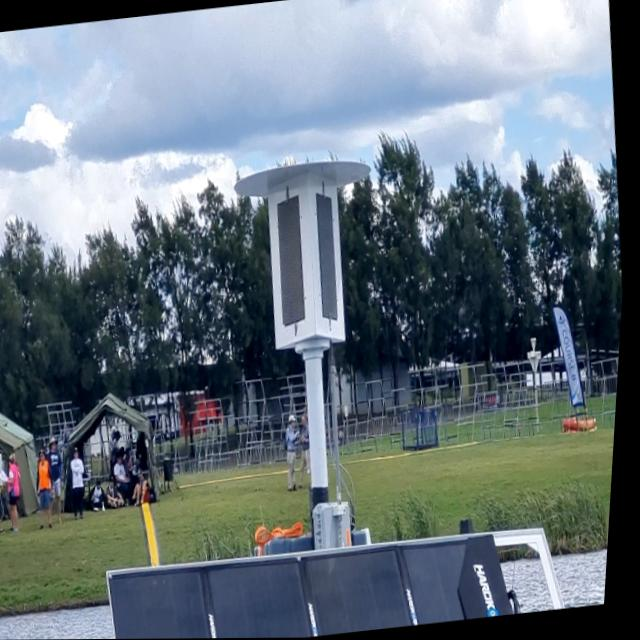led: (266, 188, 320, 336), (305, 179, 353, 329)
